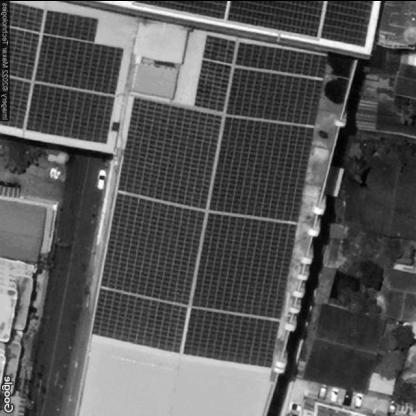solar-pv-panel: (90, 33, 327, 368), (8, 0, 125, 144), (134, 0, 372, 46)
